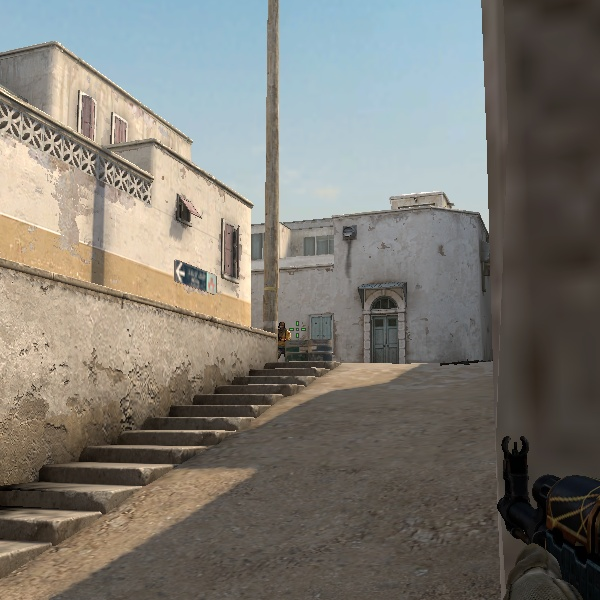t_body: (277, 321, 292, 360)
t_head: (278, 321, 285, 331)
